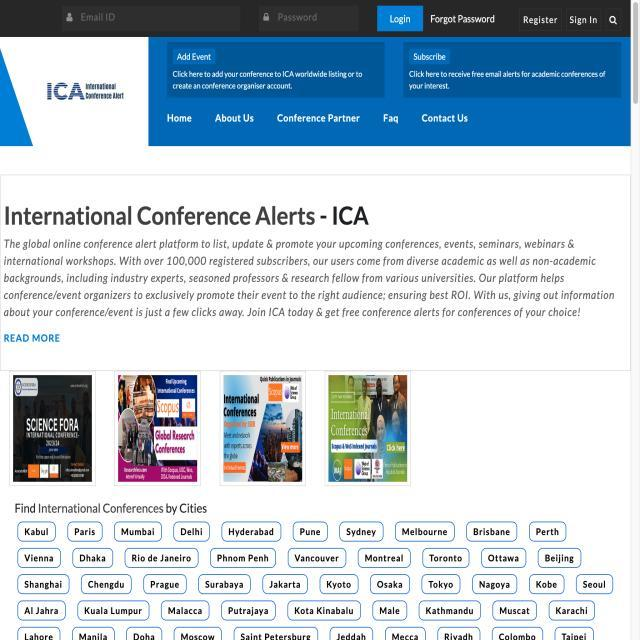button: (369, 0, 426, 37)
input field: (55, 0, 364, 33)
text: (9, 196, 619, 338)
